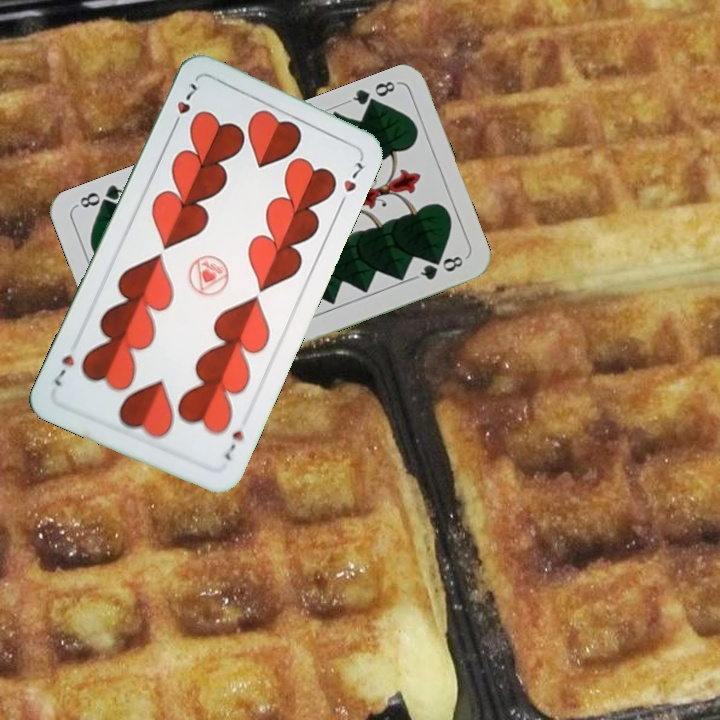G8: (343, 76, 400, 113)
H7: (168, 78, 200, 132), (220, 426, 248, 463)
